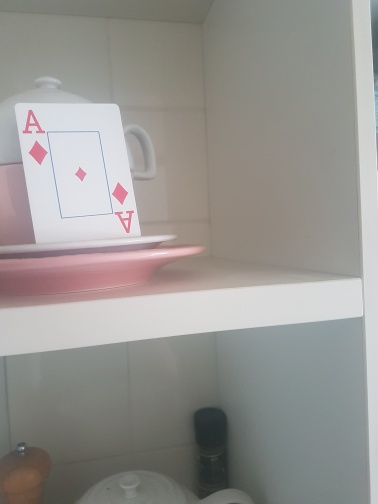ace: (15, 102, 140, 244)
